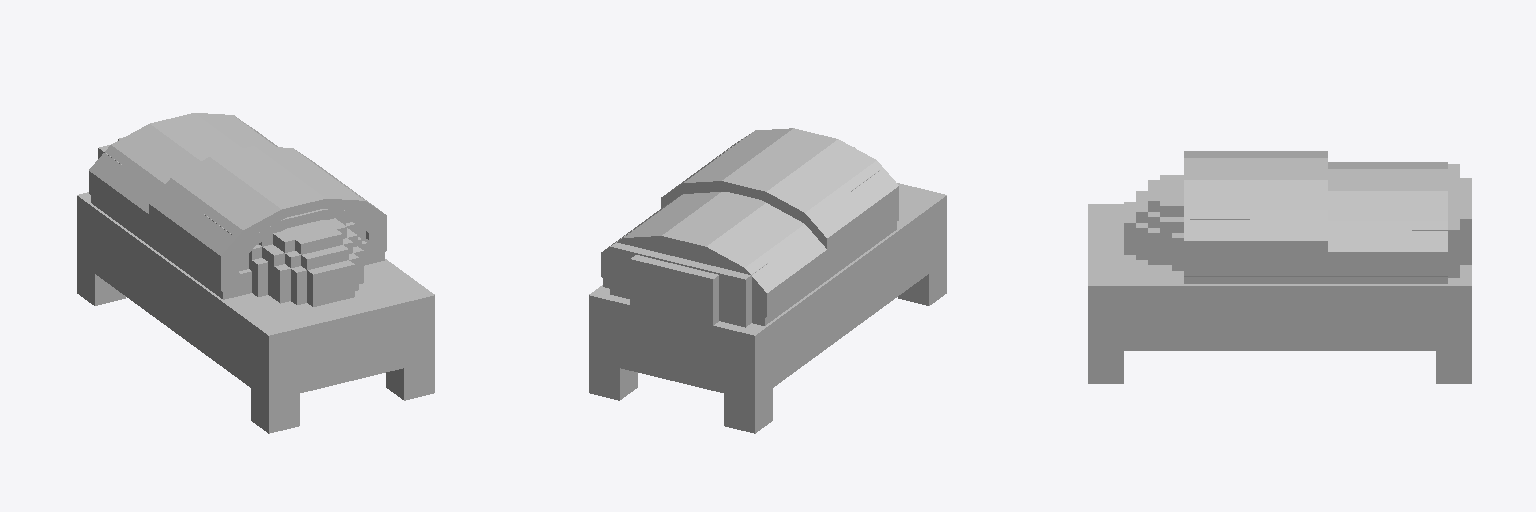
The model's file is bed_-_converted.obj.
The picture shows the model from 3 angles: view 1: azimuth 30°, elevation 25°; view 2: azimuth 150°, elevation 25°; view 3: azimuth 270°, elevation 25°; orthographic projection.
Parts seen in each view (by area): view 1: tube, head, cube, foot, cuboid, leg2, leg1, leg4; view 2: tube, foot, cuboid, head, leg4, leg3, leg2; view 3: tube, head, foot, cube, cuboid, leg3, leg1.
Boxes of the visible parts, x1,y1,x2,y2 form: tube: [89, 113, 386, 297]; head: [173, 259, 434, 400]; cube: [249, 216, 363, 306]; foot: [77, 192, 174, 330]; cuboid: [91, 115, 384, 299]; leg2: [251, 388, 299, 433]; leg1: [386, 361, 434, 400]; leg4: [77, 261, 125, 305]; tube: [601, 128, 898, 323]; foot: [589, 265, 850, 400]; cuboid: [603, 137, 896, 327]; head: [849, 183, 946, 330]; leg4: [724, 388, 772, 433]; leg3: [589, 361, 637, 400]; leg2: [898, 261, 946, 305]; tube: [1184, 151, 1447, 276]; head: [1088, 204, 1279, 350]; foot: [1280, 265, 1471, 350]; cube: [1124, 175, 1183, 270]; cuboid: [1184, 164, 1471, 283]; leg3: [1436, 351, 1471, 383]; leg1: [1088, 351, 1123, 383].
Size of the model in its own units: 1 by 1 by 2.